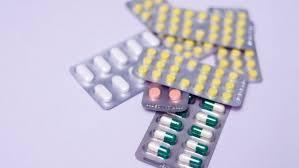pill_Strip: (70, 31, 159, 109), (134, 48, 247, 106), (135, 98, 229, 167), (127, 1, 251, 48), (148, 5, 250, 47), (127, 0, 207, 40), (147, 4, 208, 40), (203, 8, 252, 48), (216, 40, 261, 82), (204, 8, 251, 48), (230, 22, 261, 81), (155, 34, 216, 61), (155, 34, 216, 60), (216, 47, 261, 82), (156, 33, 215, 59), (156, 34, 216, 59), (142, 82, 188, 112), (126, 0, 171, 25), (126, 0, 169, 25), (228, 8, 254, 48), (126, 0, 167, 24), (126, 0, 154, 23), (247, 41, 262, 81), (189, 124, 213, 141), (147, 141, 169, 158), (74, 64, 94, 82), (158, 115, 182, 130), (153, 129, 176, 144), (242, 20, 254, 48), (196, 112, 218, 127), (109, 47, 128, 64), (178, 153, 201, 167), (94, 84, 112, 101), (112, 75, 129, 92), (202, 100, 224, 113), (93, 56, 110, 72), (126, 39, 142, 55), (142, 32, 159, 45), (148, 87, 162, 100), (168, 88, 180, 100)
